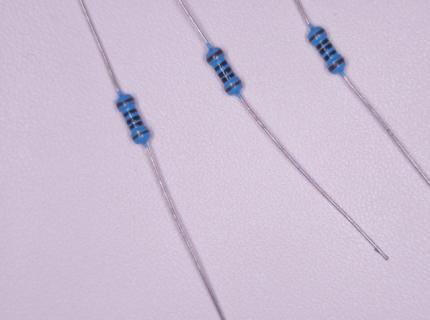Black band: (218, 66, 232, 79), (214, 60, 228, 72), (319, 43, 333, 55), (316, 38, 329, 50), (324, 49, 337, 61), (126, 115, 141, 125), (222, 72, 235, 83), (123, 108, 137, 118), (129, 121, 144, 130)
Brown band: (207, 49, 223, 63), (309, 29, 325, 43), (328, 58, 344, 72), (132, 129, 150, 141), (225, 80, 241, 93), (117, 97, 134, 109)
